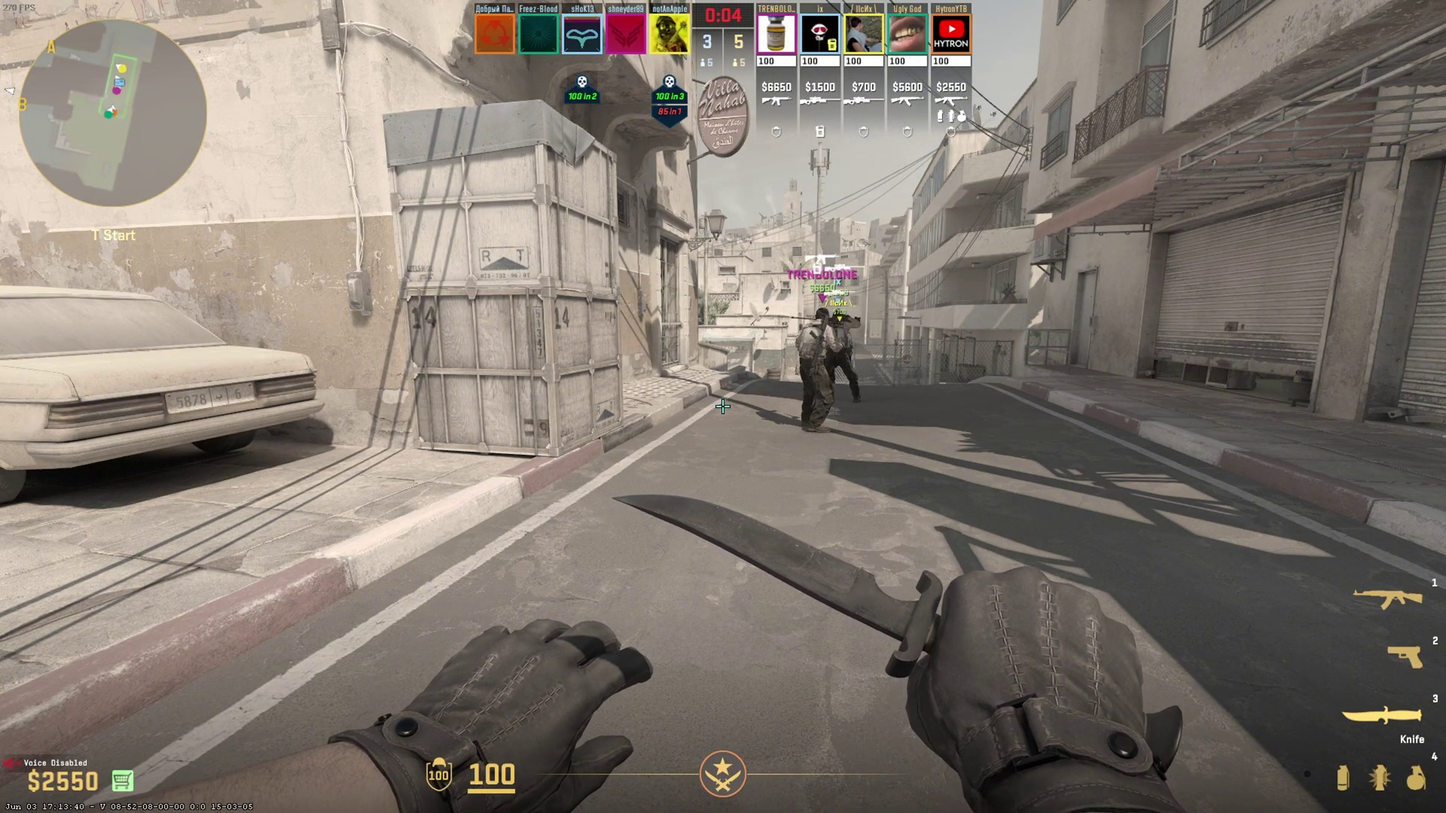Terrorist: (798, 308, 829, 431), (829, 311, 860, 401)
